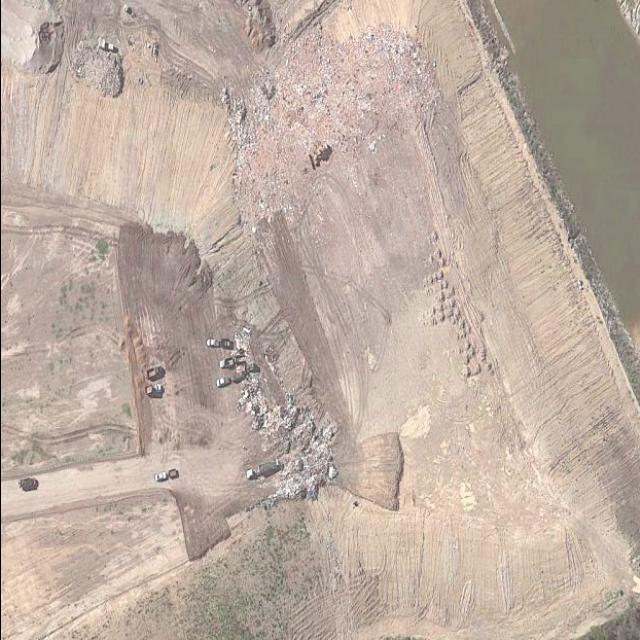dump_site: (199, 0, 449, 255), (211, 290, 342, 524)
